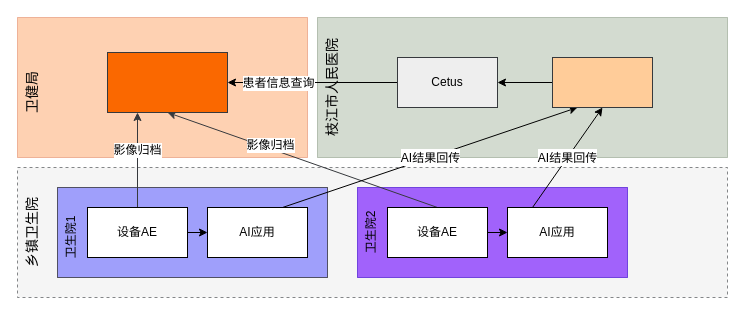
This 745x315 diagram has some shape labels left out. The box of each missing label's shape, as (x1, y1, x2, y2) in pixels:
卫健局PACS: (106, 52, 228, 112)
危急告警平台: (552, 56, 652, 108)
